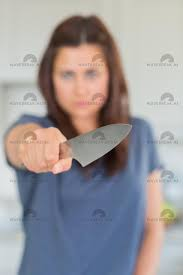knife: (11, 121, 135, 180)
